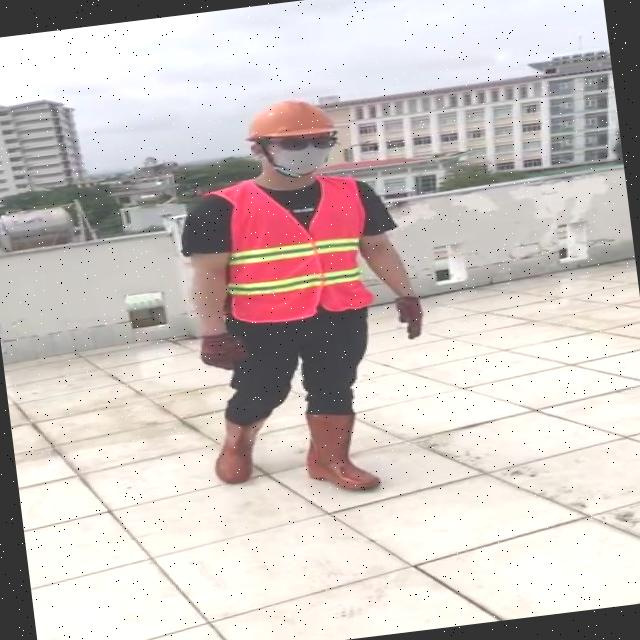boots: (299, 406, 385, 496), (208, 414, 270, 487)
